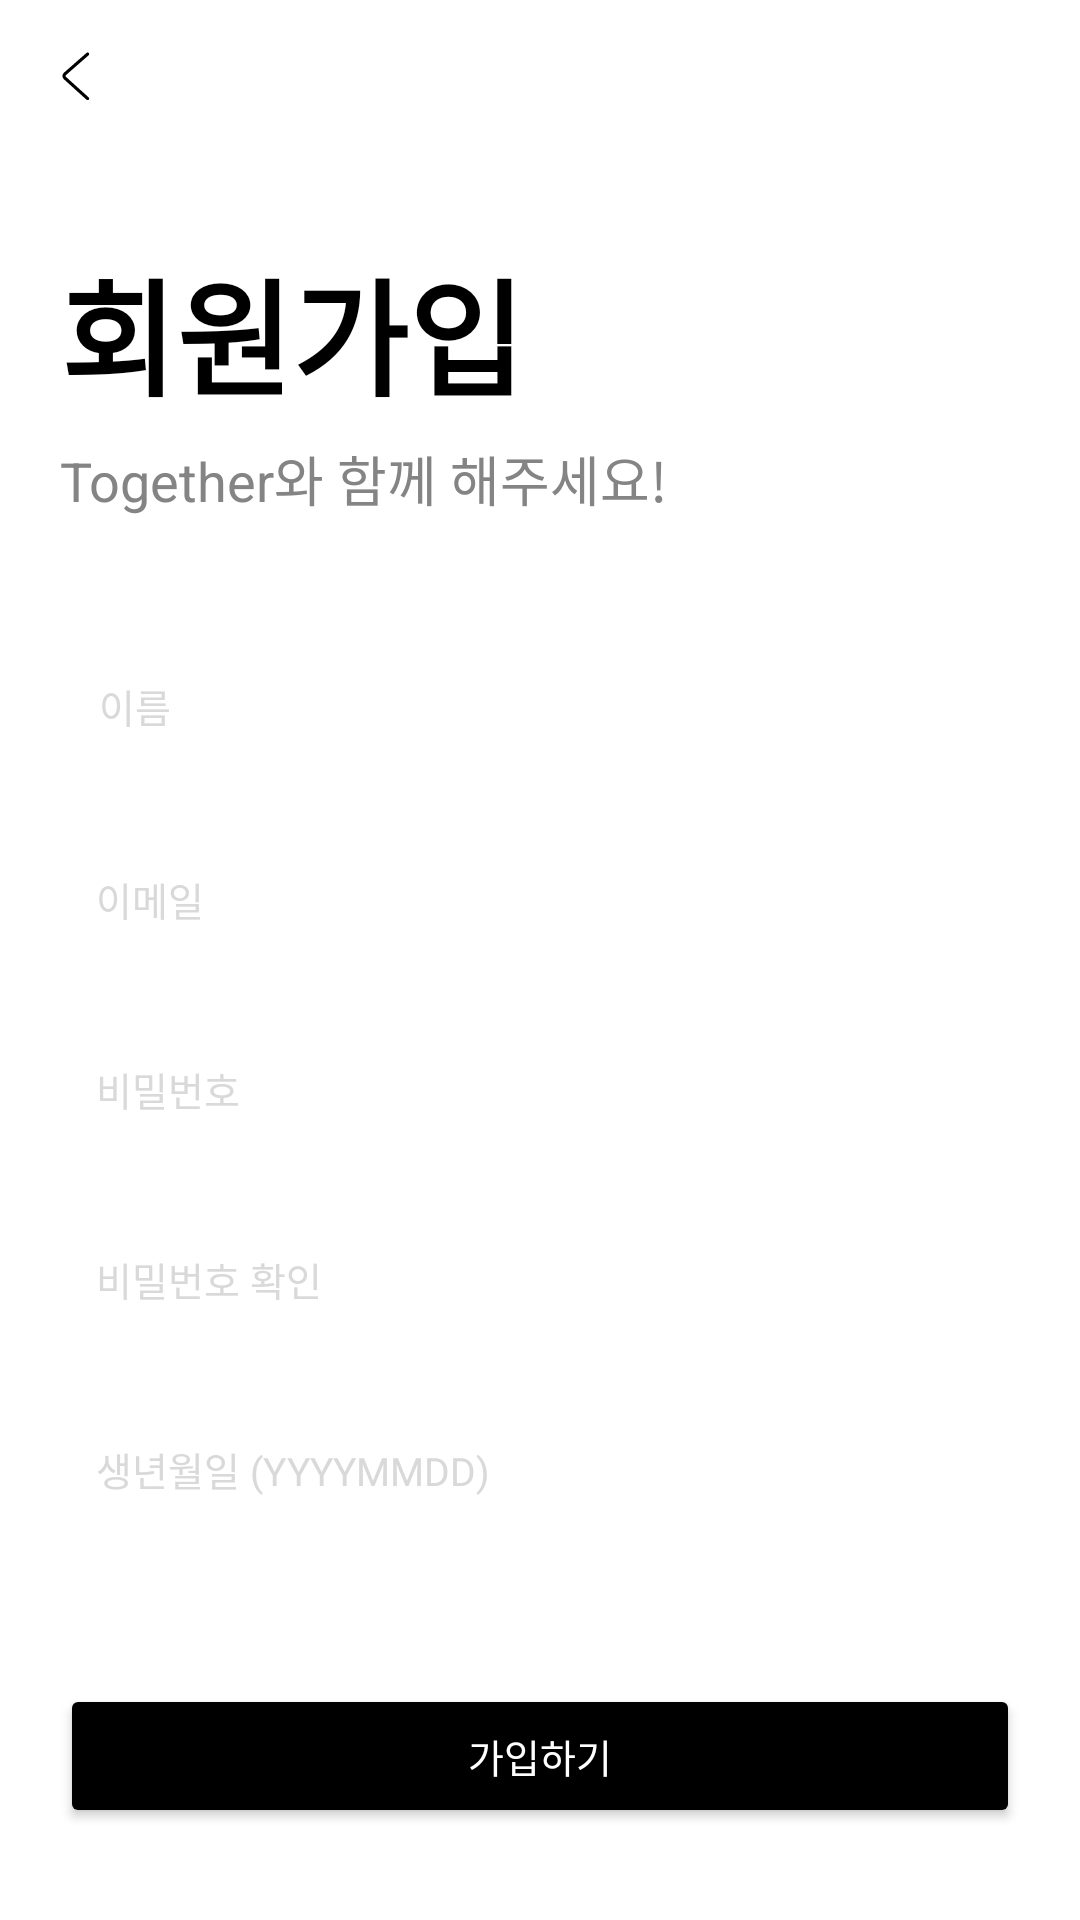

Where icons sit on this 1080w x 1920h app screen, as (x1, y1, x2, y2):
뒤로 가기 버튼: (62, 52, 90, 100)
